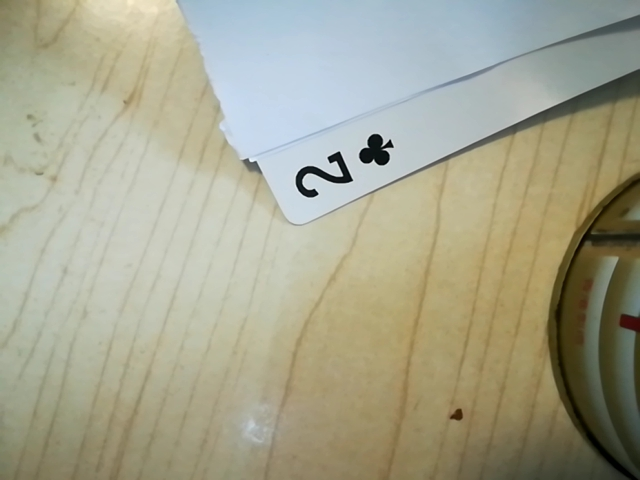mh 2: (281, 123, 407, 208)
